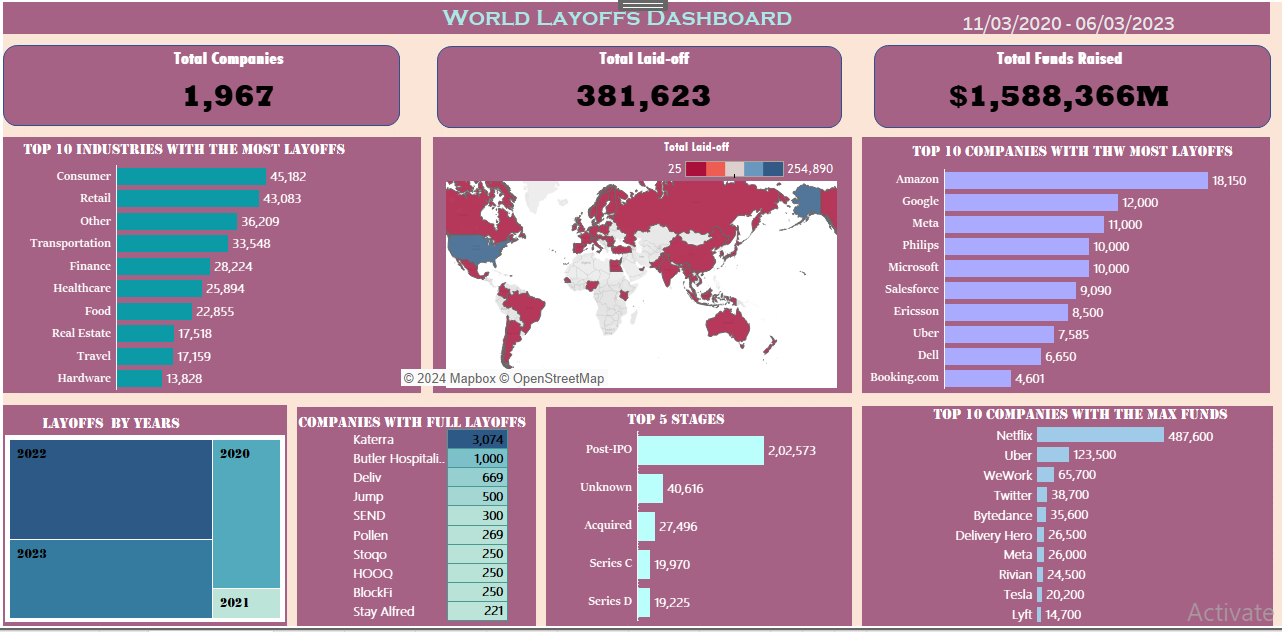

Layout of this report page (visuals, bound fields, positions):
{"tool":"tableau","page":{"name":"Dashboard 2","canvas":[1000,1000],"units":"permille","ordinal":0},"visuals":[{"type":"image","param":"C:/Users/Admin/Documents/ppt bg.png","box":[0,0,1000,1000]},{"type":"dashboard-object","box":[0,12.7,22.9,38]},{"type":"text","box":[734.1,15.8,209.6,47.5]},{"type":"worksheet","title":"KPIs","mark":"Automatic","box":[39.3,80.7,923,120.2]},{"type":"text","box":[697,207.3,244.4,71.2]},{"type":"text","box":[38.5,215.2,245.9,47.5]},{"type":"legend","title":"Sheet 3","param":"[federated.1kptewr07s31gy13g9jsx1q7a1lg].[usr:Calculation_340866232916611077:qk]","box":[515.6,224.7,128.9,61.7]},{"type":"worksheet","title":"Sheet 2","mark":"Bar","rows":["Industry"],"cols":["Calculation_340866232916611077"],"box":[35.6,264.2,224.4,356]},{"type":"worksheet","title":"Sheet 5","mark":"Automatic","rows":["Company"],"cols":["Calculation_340866232916611077"],"box":[663.7,270.6,295.6,348.1]},{"type":"worksheet","title":"Sheet 3","mark":"Automatic","box":[318.5,289.6,360.7,327.5]},{"type":"text","box":[712.6,623.4,225.9,71.2]},{"type":"text","box":[485.9,631.3,114.1,69.6]},{"type":"text","box":[242.2,636.1,180.7,71.2]},{"type":"text","box":[52.6,648.7,106.7,47.5]},{"type":"worksheet","title":"Sheet 6","mark":"Automatic","rows":["Company"],"cols":["Calculation_340866232917000198"],"box":[717.8,675.6,211.8,314.9]},{"type":"worksheet","title":"Sheet 7","mark":"Square","rows":["Company"],"box":[280.7,682,125.9,303.8]},{"type":"worksheet","title":"Sheet 4","mark":"Automatic","rows":["stage"],"cols":["Calculation_340866232916611077"],"box":[436.3,685.1,209.6,300.6]},{"type":"worksheet","title":"Sheet 8","mark":"Automatic","box":[27.4,691.5,208.9,295.9]}]}

Visuals, with their boxes on the dashboard's canvas, which has no fixed pixel size, in thousandths of its width and height (x1, y1, x2, y2). These are canvas units, not pixel positions in the 1282x632 screenshot, which may show the page scaled, cropped or inside an application window:
image: {"x1": 0, "y1": 0, "x2": 1000, "y2": 1000}
dashboard-object: {"x1": 0, "y1": 13, "x2": 23, "y2": 51}
text: {"x1": 734, "y1": 16, "x2": 944, "y2": 63}
"KPIs" worksheet: {"x1": 39, "y1": 81, "x2": 962, "y2": 201}
text: {"x1": 697, "y1": 207, "x2": 941, "y2": 278}
text: {"x1": 38, "y1": 215, "x2": 284, "y2": 263}
"Sheet 3" legend: {"x1": 516, "y1": 225, "x2": 644, "y2": 286}
"Sheet 2" worksheet (Bar marks): {"x1": 36, "y1": 264, "x2": 260, "y2": 620}
"Sheet 5" worksheet: {"x1": 664, "y1": 271, "x2": 959, "y2": 619}
"Sheet 3" worksheet: {"x1": 318, "y1": 290, "x2": 679, "y2": 617}
text: {"x1": 713, "y1": 623, "x2": 938, "y2": 695}
text: {"x1": 486, "y1": 631, "x2": 600, "y2": 701}
text: {"x1": 242, "y1": 636, "x2": 423, "y2": 707}
text: {"x1": 53, "y1": 649, "x2": 159, "y2": 696}
"Sheet 6" worksheet: {"x1": 718, "y1": 676, "x2": 930, "y2": 990}
"Sheet 7" worksheet (Square marks): {"x1": 281, "y1": 682, "x2": 407, "y2": 986}
"Sheet 4" worksheet: {"x1": 436, "y1": 685, "x2": 646, "y2": 986}
"Sheet 8" worksheet: {"x1": 27, "y1": 692, "x2": 236, "y2": 987}
